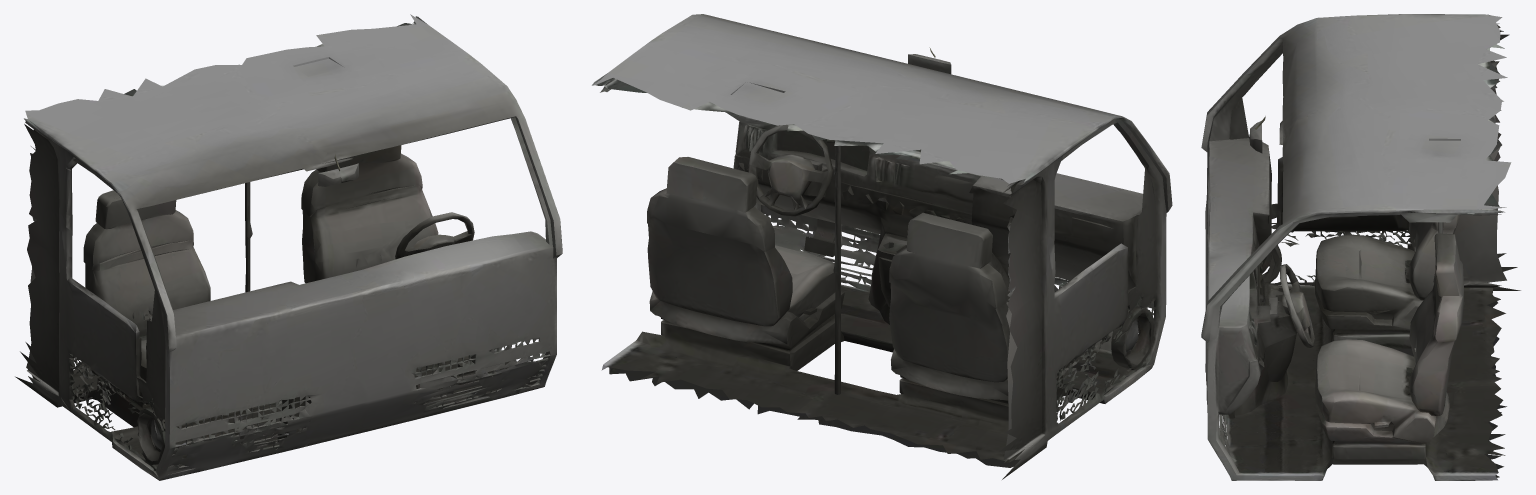
The model's file is int_van.glb.
3 views of the same model, side by side, from view 1: azimuth 30°, elevation 25°; view 2: azimuth 150°, elevation 25°; view 3: azimuth 270°, elevation 25° (orthographic). The views are drawn at different scales.
Parts seen in each view (by area): view 1: veiculo; view 2: veiculo; view 3: veiculo.
Part boxes in pixels (<box>): veiculo: <box>15,14,562,480</box>; veiculo: <box>592,14,1172,479</box>; veiculo: <box>1201,14,1520,480</box>.
Bounding box in the file's own units: 1.9 × 1.24 × 1.31.
1 material, 1 textured.
